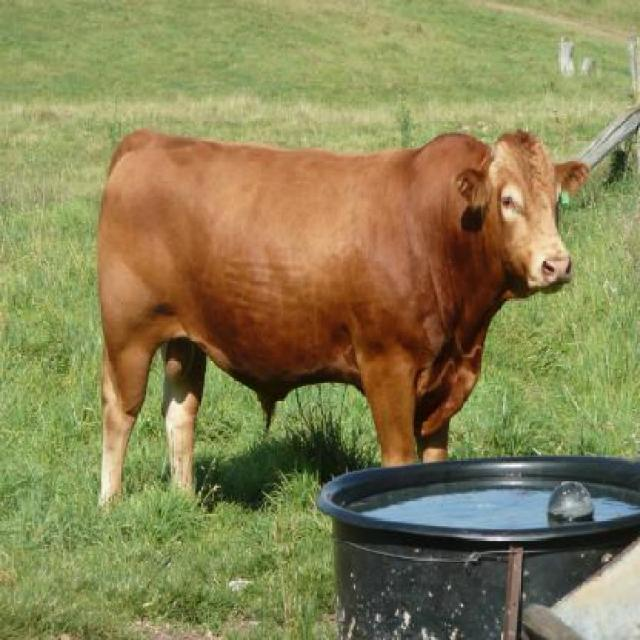Cow: (94, 126, 588, 519)
